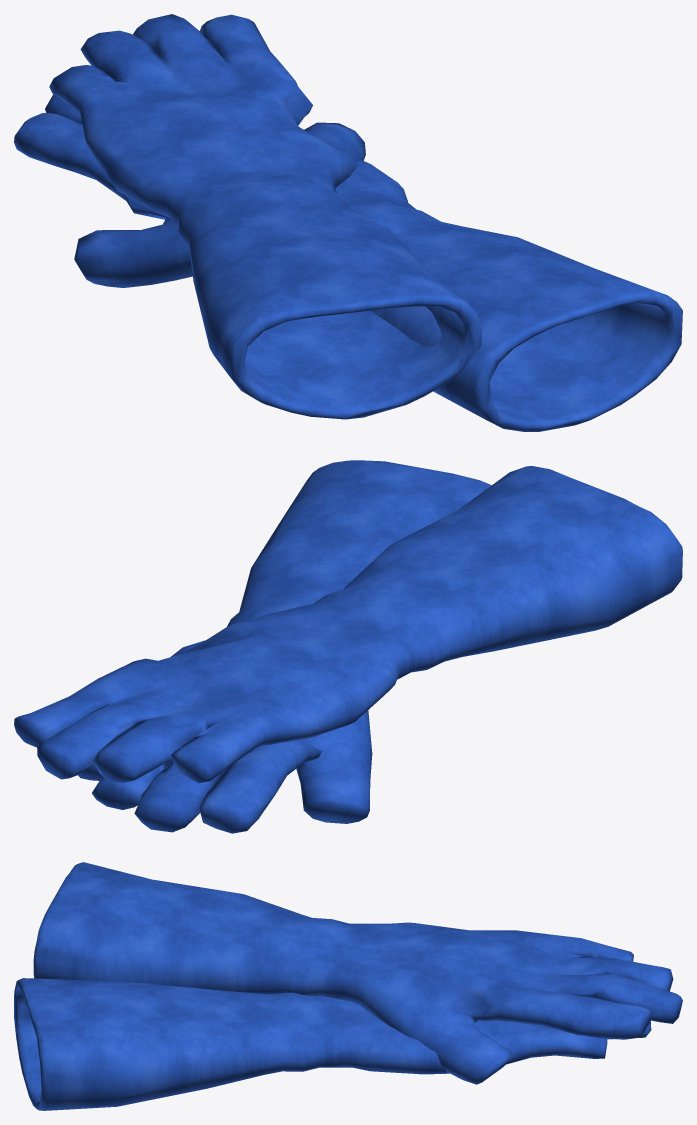
Rendered from gloves.glb.
3 views of the same model, one above another, from view 1: azimuth 30°, elevation 25°; view 2: azimuth 150°, elevation 25°; view 3: azimuth 270°, elevation 25° (orthographic). The views are drawn at different scales.
Visible parts, largest first — view 1: glove_l, glove_r; view 2: glove_l, glove_r; view 3: glove_l, glove_r.
Boxes of the visible parts, x1,y1,x2,y2 form: glove_l: [49, 14, 481, 419]; glove_r: [14, 94, 682, 431]; glove_l: [14, 466, 682, 783]; glove_r: [78, 460, 491, 833]; glove_l: [33, 862, 682, 1084]; glove_r: [14, 978, 651, 1110].
Size of the model in its own units: 0.1679 by 0.0682 by 0.2856.
1 material, 1 textured.
